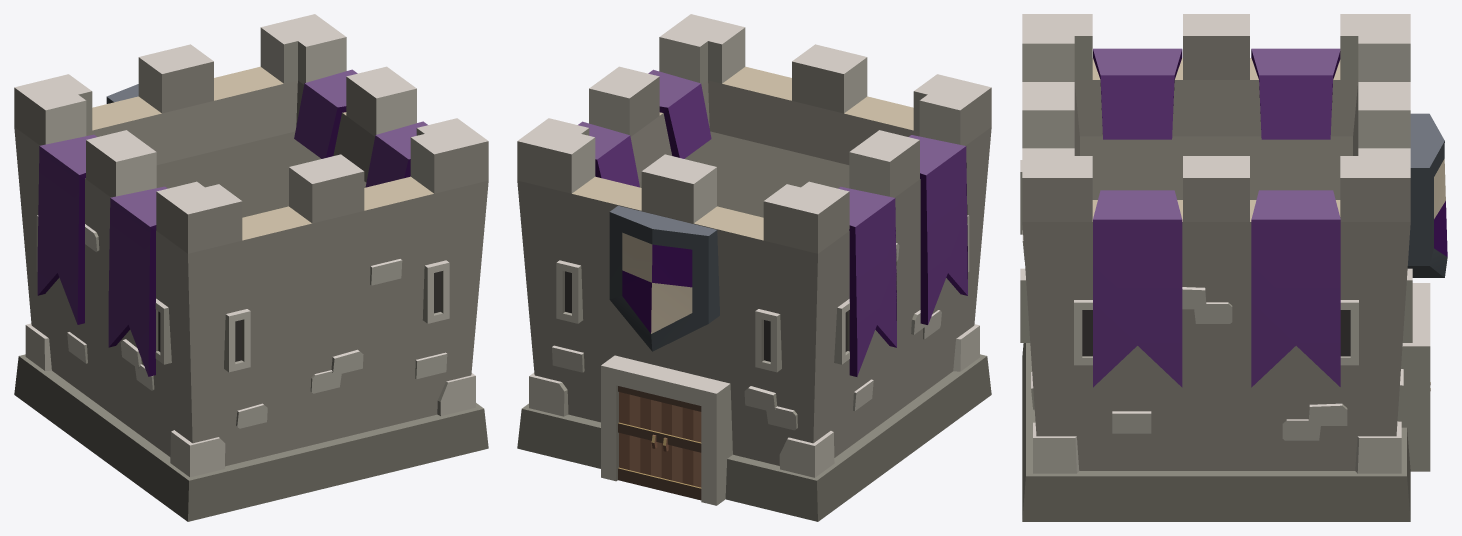
File: Barracks_Lv2.obj
The picture shows the model from 3 angles, left to right: view 1: azimuth 30°, elevation 25°; view 2: azimuth 150°, elevation 25°; view 3: azimuth 270°, elevation 25°; orthographic projection. The views are drawn at different scales.
Visible parts, largest first — view 1: Barracks_Lv2; view 2: Barracks_Lv2; view 3: Barracks_Lv2.
Part boxes in pixels (x1,y1,x2,y2): Barracks_Lv2: (14, 14, 488, 521); Barracks_Lv2: (517, 14, 991, 521); Barracks_Lv2: (1020, 14, 1447, 521).
Bounding box in the file's own units: 6.73 × 6.25 × 7.04.
Materials: 1 (1 with a texture image).
